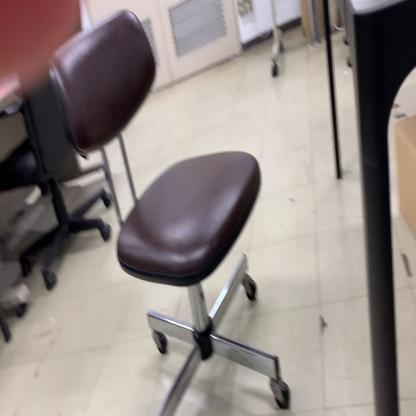chair: (48, 8, 296, 416), (2, 70, 113, 294)
